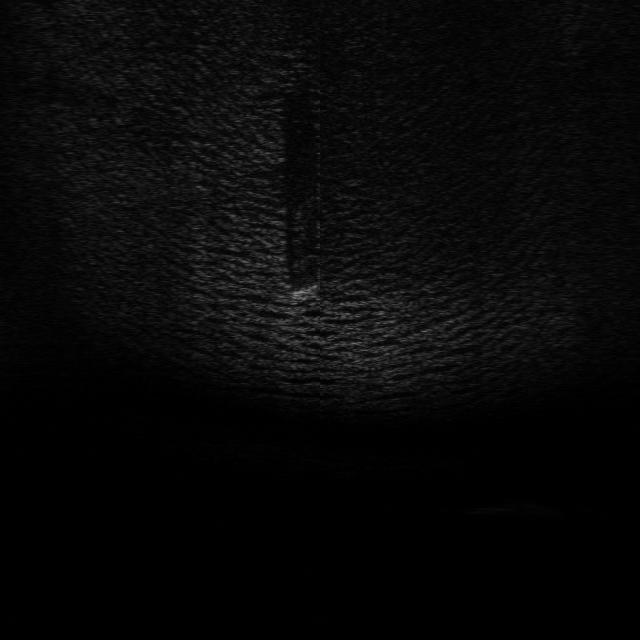cube: (289, 283, 322, 307)
